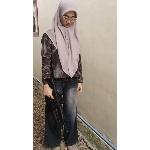Senapan: (39, 77, 78, 142)
